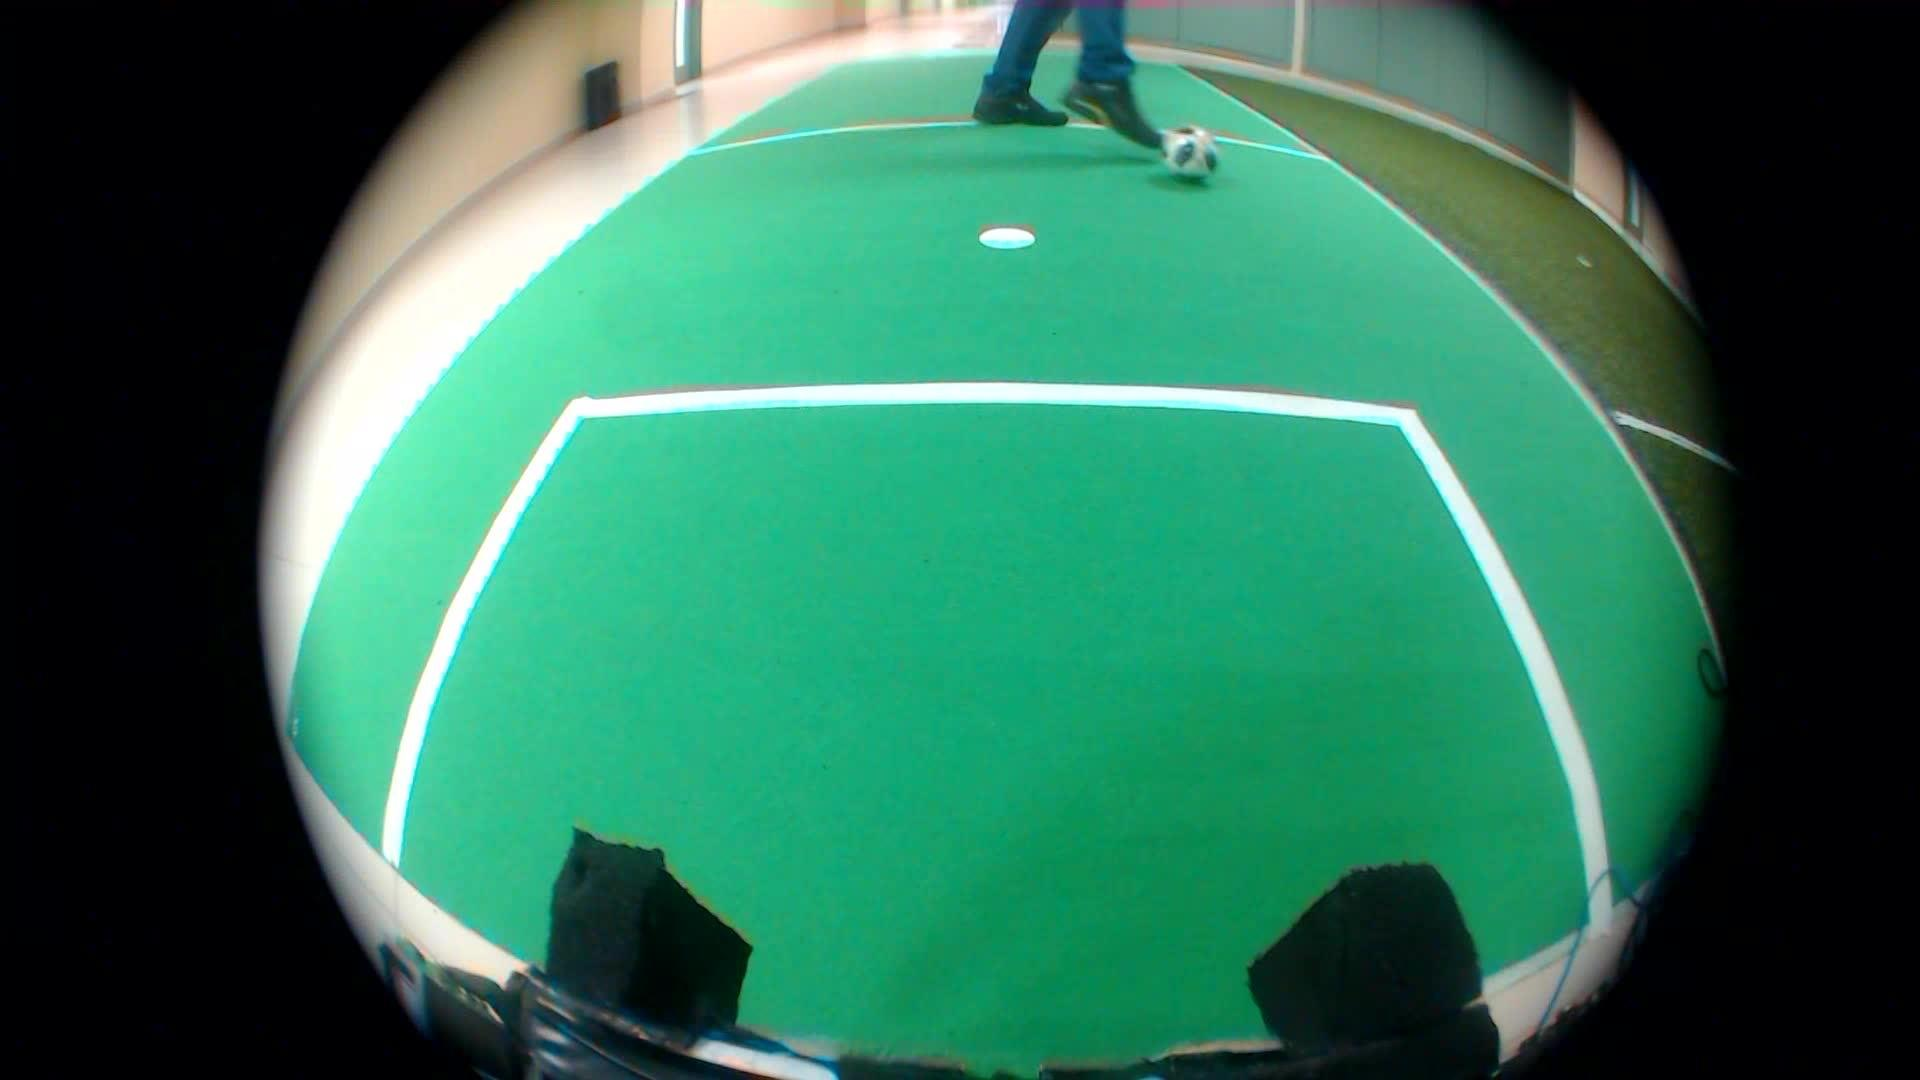ball: (1153, 115, 1225, 194)
